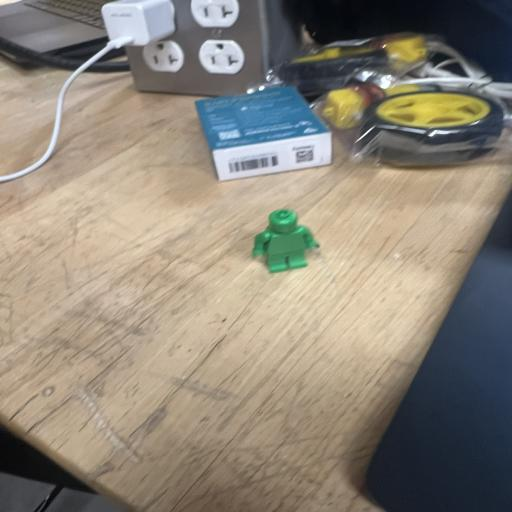green-lego-minifigure-detector: (252, 209, 319, 273)
